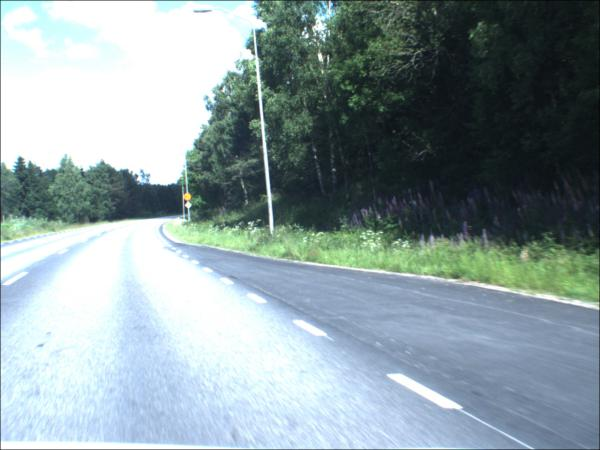80_SIGN: (185, 195, 193, 203)
PRIORITY_ROAD: (185, 203, 196, 212)
